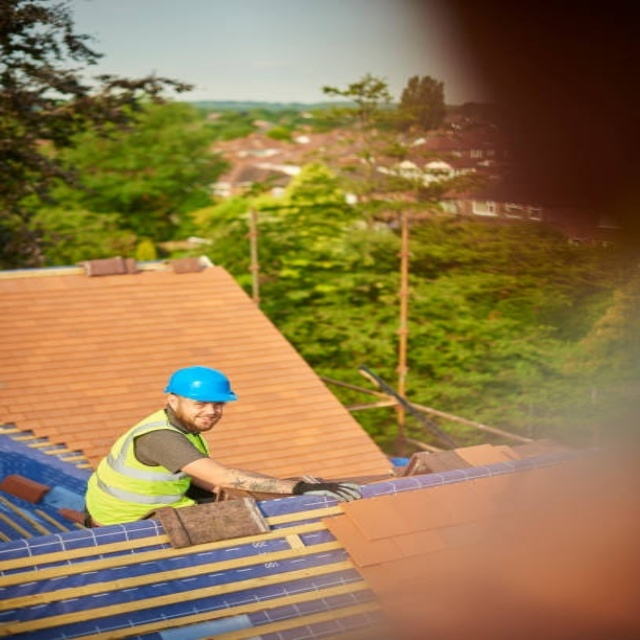Guantes: (295, 479, 366, 502)
Sin_mascara: (190, 412, 220, 431)
